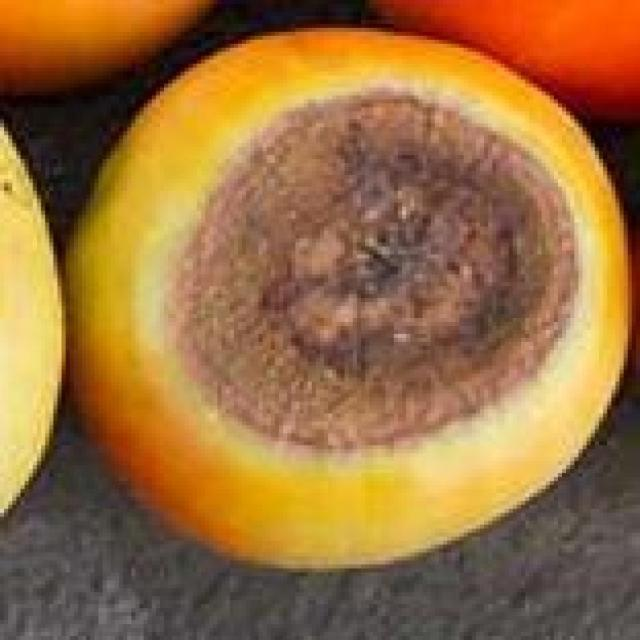Blossom End Rot Fruit: (112, 53, 386, 302)
